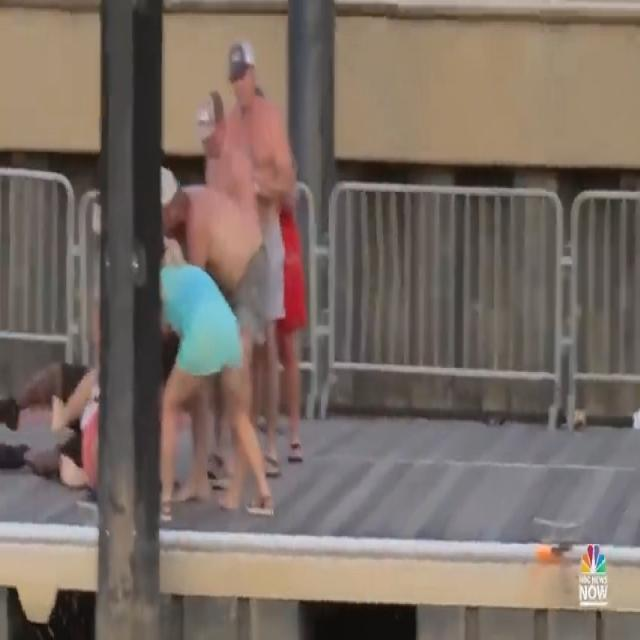fight: (0, 3, 319, 533)
